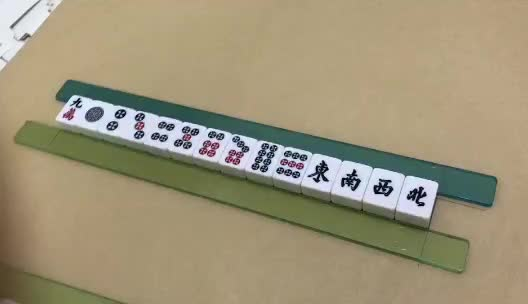1p: (84, 107, 104, 122)
1z: (307, 161, 330, 183)
2p: (107, 109, 126, 130)
2z: (338, 169, 362, 191)
3p: (134, 113, 145, 139)
3z: (373, 179, 393, 198)
4p: (149, 121, 174, 142)
4z: (406, 186, 427, 208)
5p: (174, 126, 199, 149)
6p: (197, 131, 224, 158)
7p: (225, 134, 248, 166)
8p: (250, 141, 278, 172)
9m: (60, 98, 83, 120)
9p: (277, 150, 307, 177)
